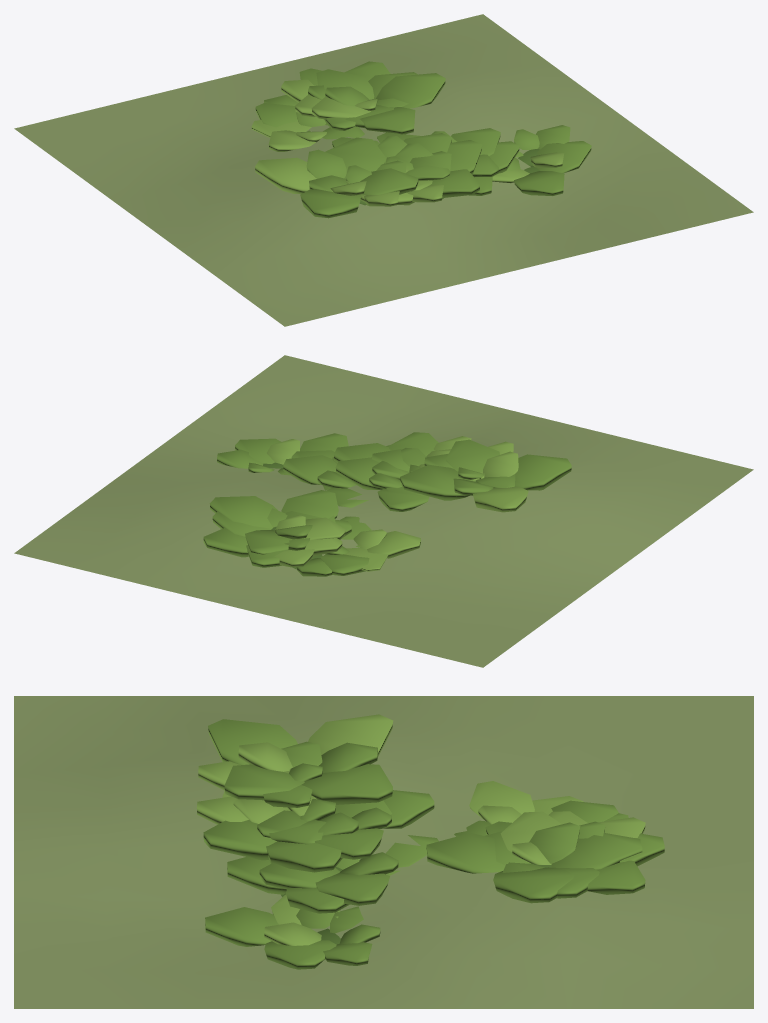
File: master_grass_lush_11.glb
3 renders of one model, top to bottom at view 1: azimuth 30°, elevation 25°; view 2: azimuth 150°, elevation 25°; view 3: azimuth 270°, elevation 25°, orthographic. The views are drawn at different scales.
Visible parts, largest first — view 1: master_grass_lush_11; view 2: master_grass_lush_11; view 3: master_grass_lush_11.
Part boxes in pixels (left/top/right/bottom): master_grass_lush_11: left=14, top=14, right=753, bottom=326; master_grass_lush_11: left=14, top=355, right=753, bottom=667; master_grass_lush_11: left=14, top=696, right=753, bottom=1008.
Size of the model in its own units: 1.35 by 0.146 by 1.35.
